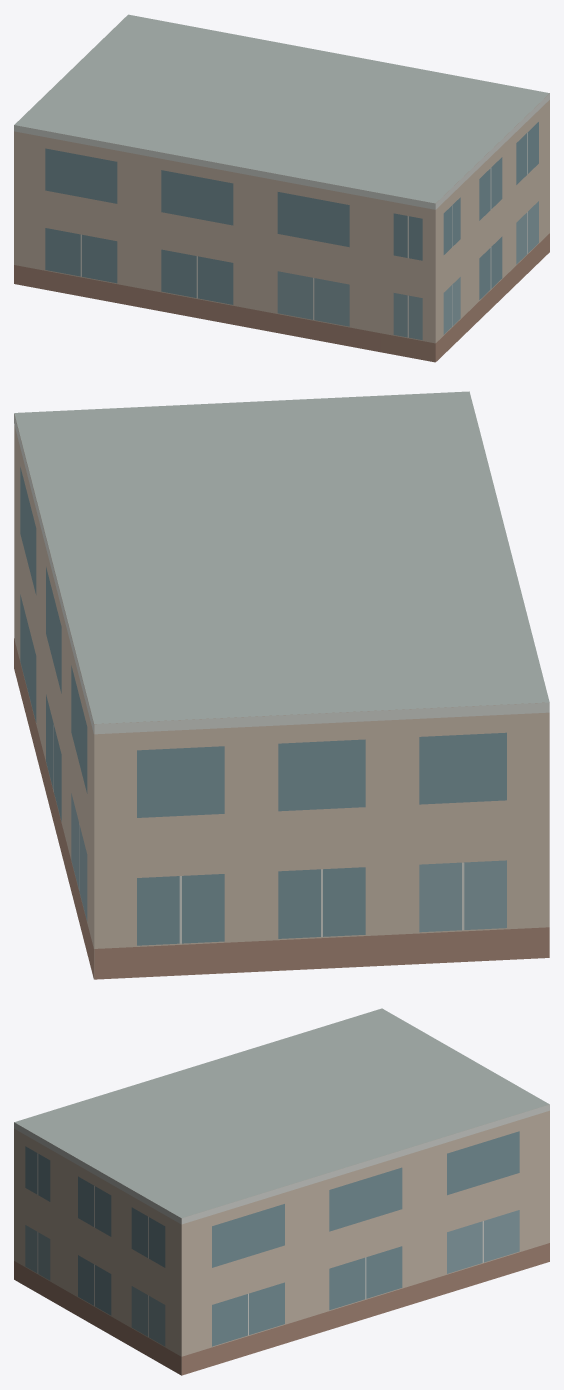
The model's file is survey-upis-32823540.glb.
3 renders of one model, top to bottom at view 1: azimuth 30°, elevation 25°; view 2: azimuth 150°, elevation 25°; view 3: azimuth 270°, elevation 25°, orthographic. The views are drawn at different scales.
Parts seen in each view (by area): view 1: survey-upis-32823540.tmp; view 2: survey-upis-32823540.tmp; view 3: survey-upis-32823540.tmp.
Boxes of the visible parts, bbox=[...] form: survey-upis-32823540.tmp: bbox=[14, 14, 549, 362]; survey-upis-32823540.tmp: bbox=[14, 391, 549, 979]; survey-upis-32823540.tmp: bbox=[14, 1008, 549, 1375].
Bounding box in the file's own units: 17.46 × 6.1 × 18.83.
